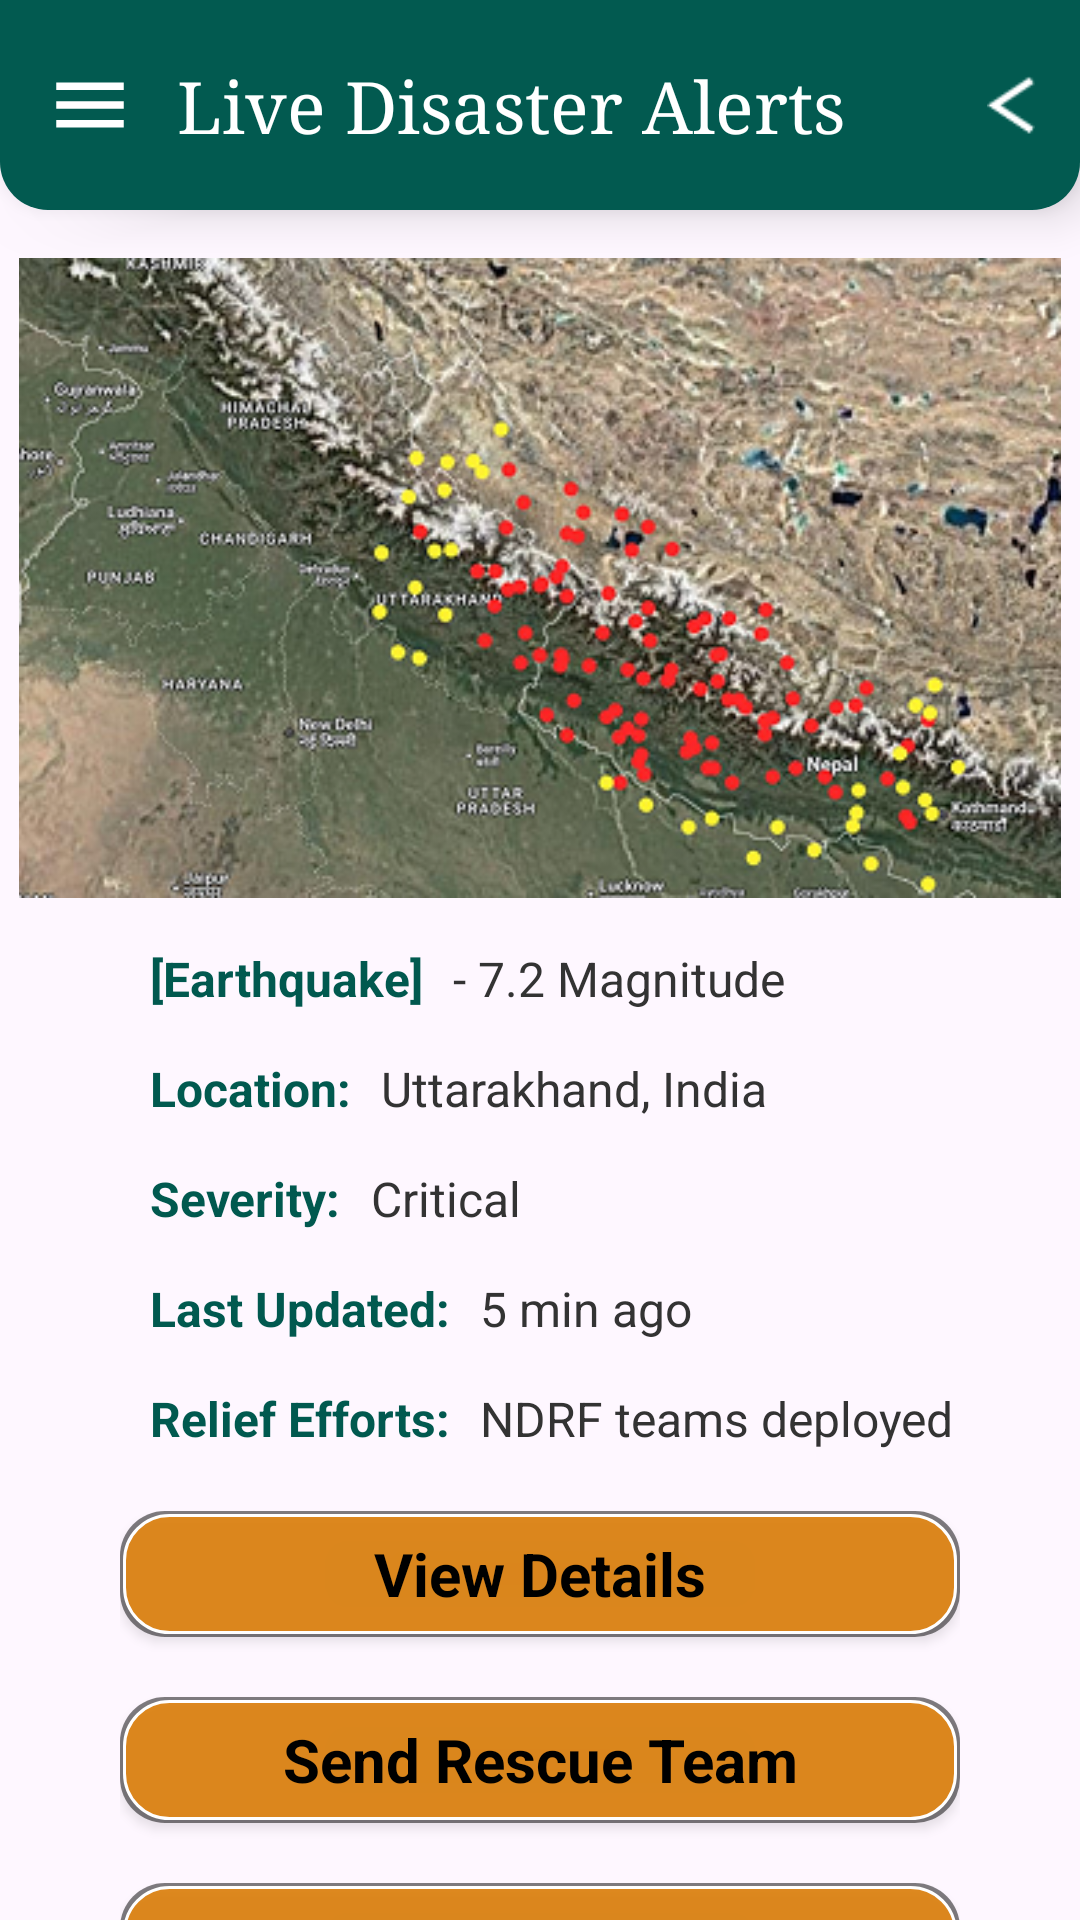

Icons on this 1080*1920 Android screen, each with the point to tap as (x,y):
Back: (1011,105)
Menu: (90,105)
